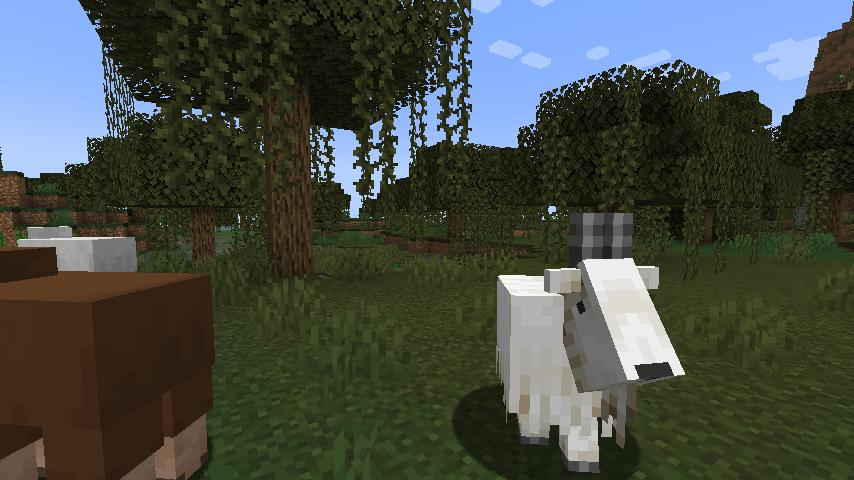goat: (486, 209, 691, 480)
sheep: (0, 241, 218, 480), (16, 222, 140, 273)
